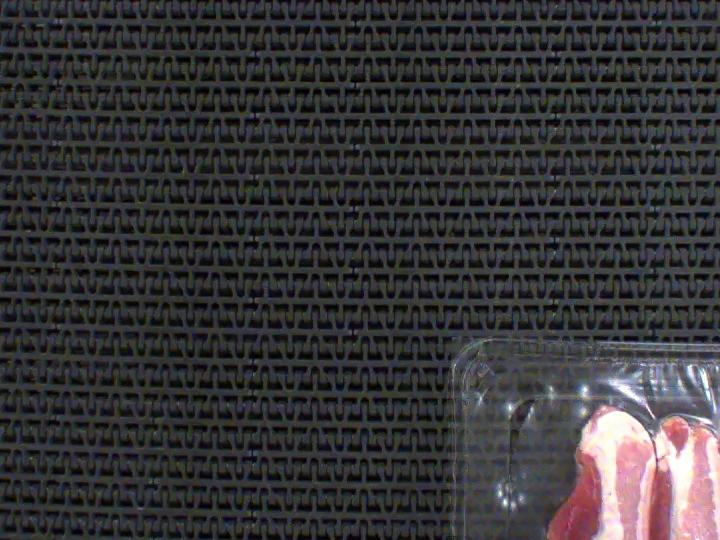unsealed: (450, 332, 720, 540)
